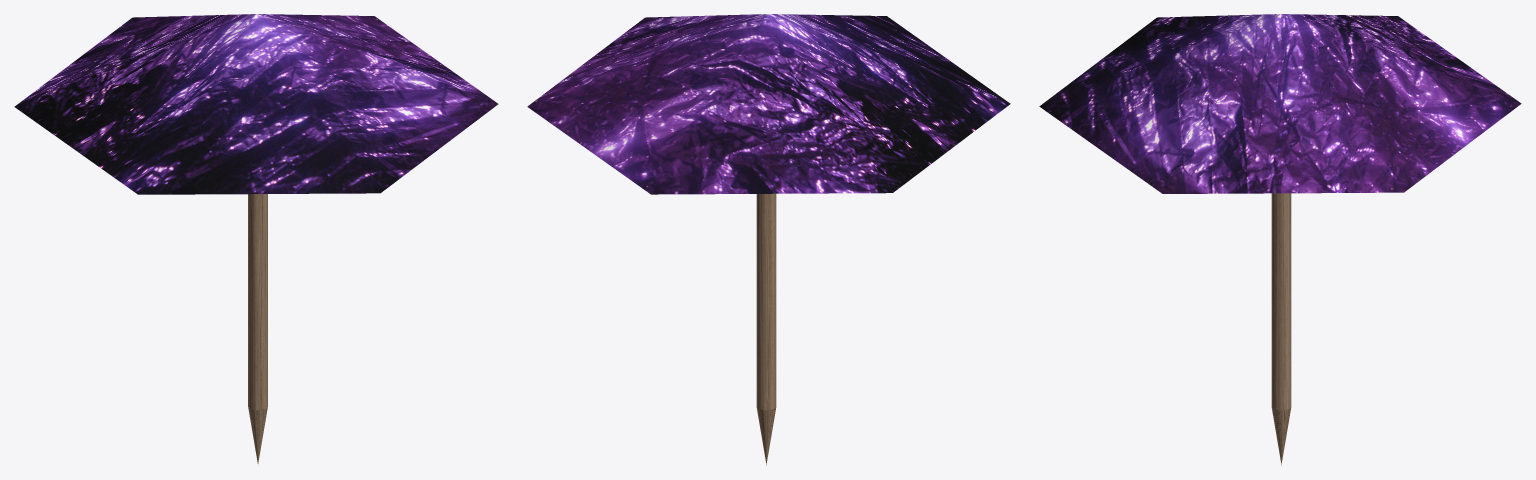
The model's file is Umbrella_fixed_N_ready.FBX.
3 views of the same model, side by side, from view 1: azimuth 30°, elevation 25°; view 2: azimuth 150°, elevation 25°; view 3: azimuth 270°, elevation 25° (orthographic).
Visible parts, largest first — view 1: stick; view 2: stick; view 3: stick.
Boxes of the visible parts, x1,y1,x2,y2 form: stick: (14, 14, 498, 463); stick: (527, 14, 1010, 465); stick: (1039, 14, 1521, 465).
Size of the model in its own units: 20.95 by 24.75 by 24.
2 materials, 2 textured.
